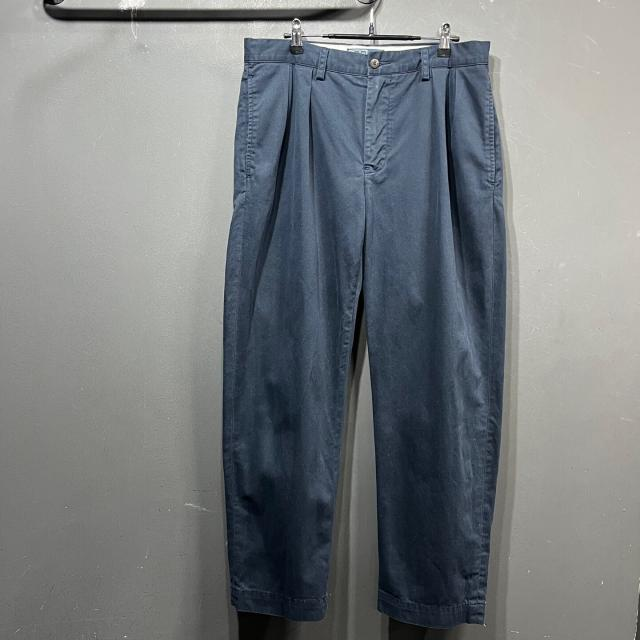long-pants: (220, 33, 505, 626)
